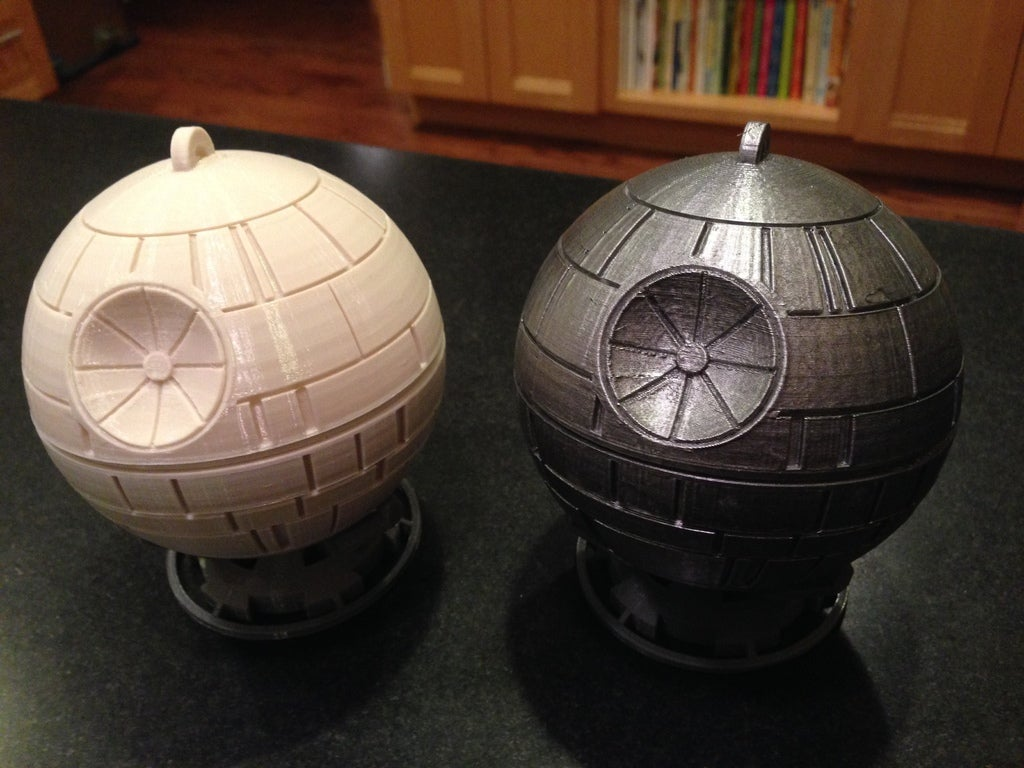Good: (18, 95, 981, 702)
